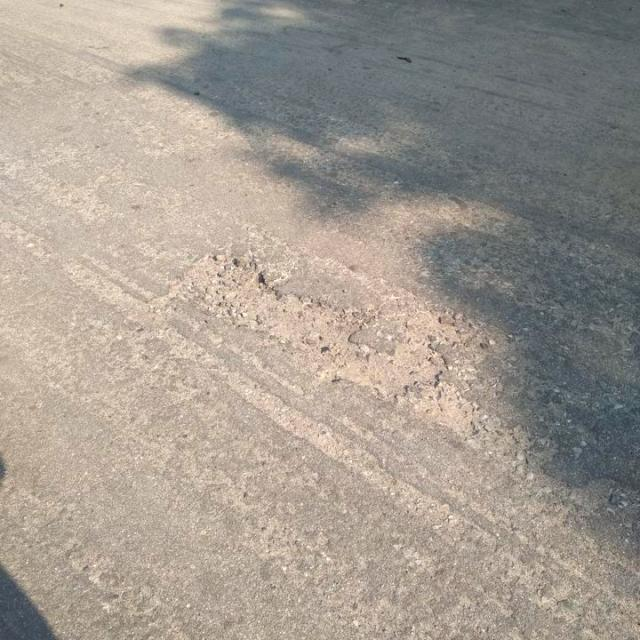pothole: (306, 282, 510, 442), (155, 234, 313, 354)
